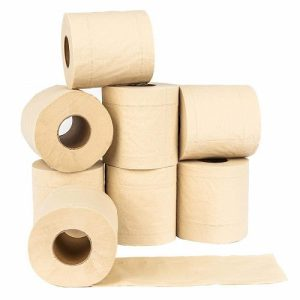Tissue: (57, 10, 157, 88), (178, 155, 252, 244)
